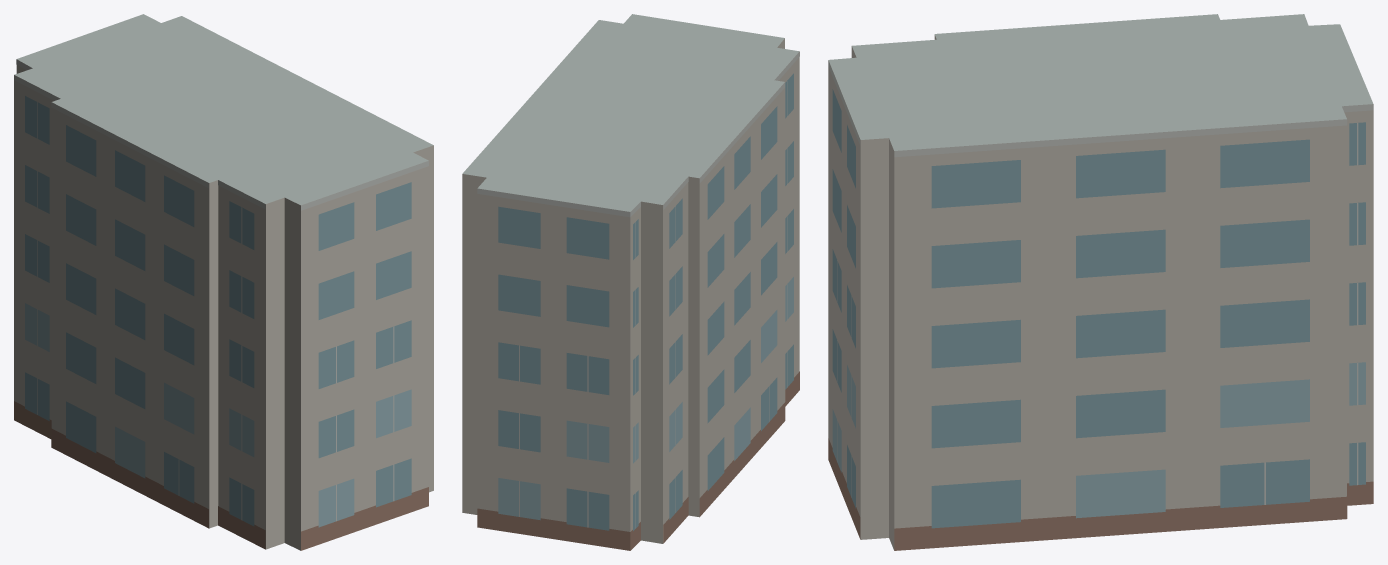
Rendered from survey-upis-32575927.glb.
The picture shows the model from 3 angles, left to right: view 1: azimuth 30°, elevation 25°; view 2: azimuth 150°, elevation 25°; view 3: azimuth 270°, elevation 25°; orthographic projection. The views are drawn at different scales.
Visible parts, largest first — view 1: survey-upis-32575927.tmp; view 2: survey-upis-32575927.tmp; view 3: survey-upis-32575927.tmp.
Part boxes in pixels (x1,y1,x2,y2): survey-upis-32575927.tmp: (14, 14, 433, 550); survey-upis-32575927.tmp: (462, 14, 799, 550); survey-upis-32575927.tmp: (828, 14, 1373, 550).
Size of the model in its own units: 11.4 by 15.5 by 19.16.
